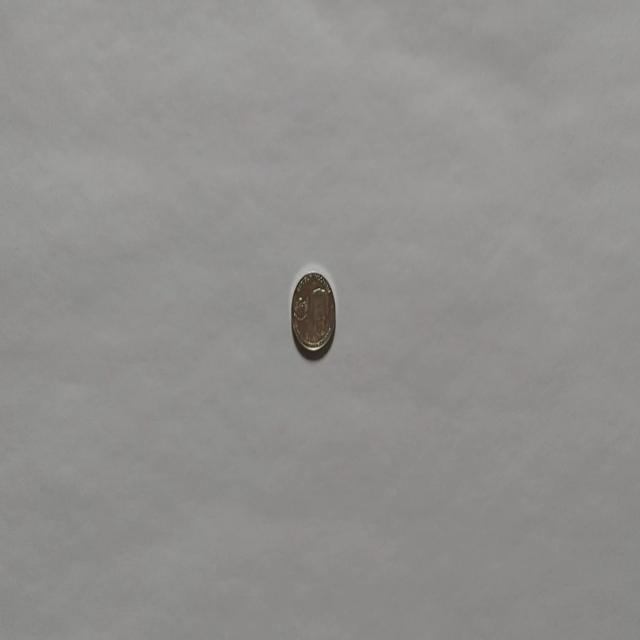seratus rupiah: (290, 269, 336, 355)
